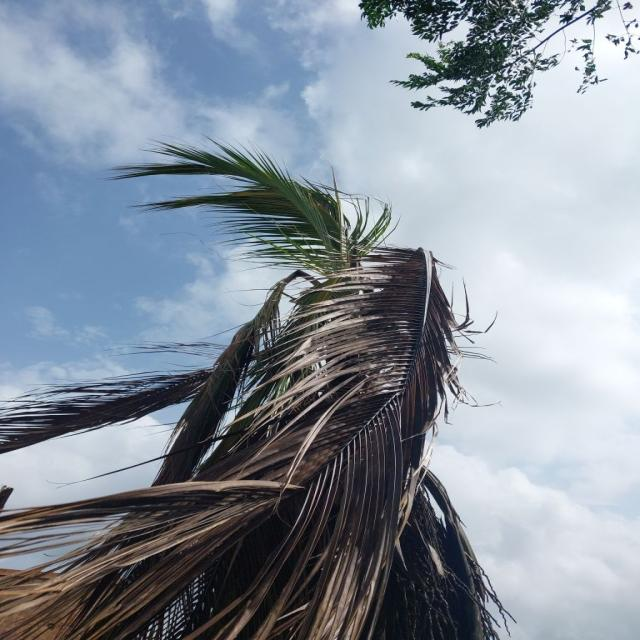bud root dropping: (2, 142, 495, 639)
